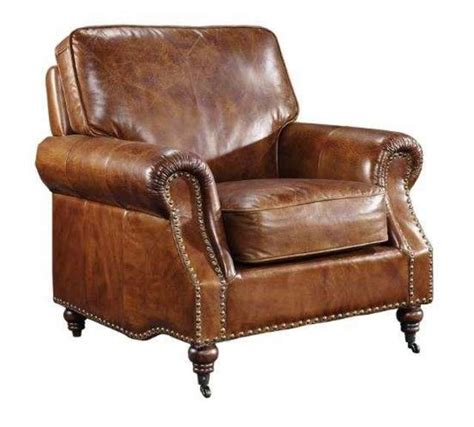cuero: (35, 24, 436, 343)
